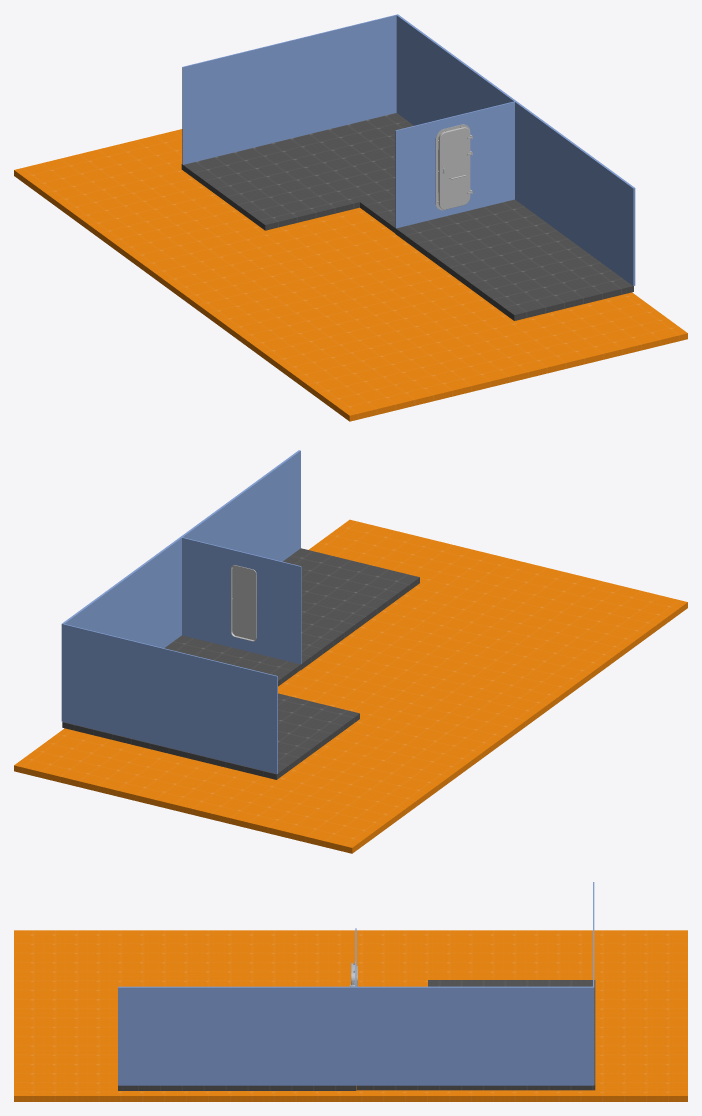
Rendered from shiphallway8.glb.
The picture shows the model from 3 angles, top to bottom: view 1: azimuth 30°, elevation 25°; view 2: azimuth 150°, elevation 25°; view 3: azimuth 270°, elevation 25°; orthographic projection.
Parts seen in each view (by area): view 1: floorC, wallB, wallA, floorB, floorA, doorA; view 2: floorC, wallB, wallA, floorA, floorB, doorA; view 3: floorC, wallB, wallA, floorB, floorA.
Part boxes in pixels (x1,y1,x2,y2): floorC: (14,129,687,421); wallB: (182,14,516,164); wallA: (395,101,635,285); floorB: (181,113,413,233); floorA: (395,199,633,320); doorA: (439,127,472,209); floorC: (14,519,687,853); wallB: (61,537,277,773); wallA: (180,450,301,664); floorA: (283,548,419,669); floorB: (62,635,359,779); doorA: (232,565,255,640); floorC: (14,930,687,1101); wallB: (355,882,594,1085); wallA: (118,928,356,1085); floorB: (356,980,595,1090); floorA: (118,1085,356,1090).
Bounding box in the file's own units: 17.89 × 5.74 × 30.77.
Materials: 4 (2 with a texture image).
